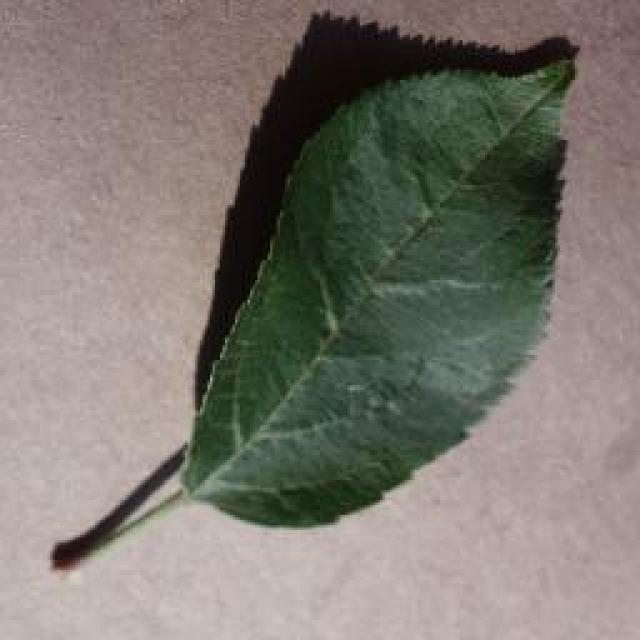apple healthy: (48, 5, 582, 570)
